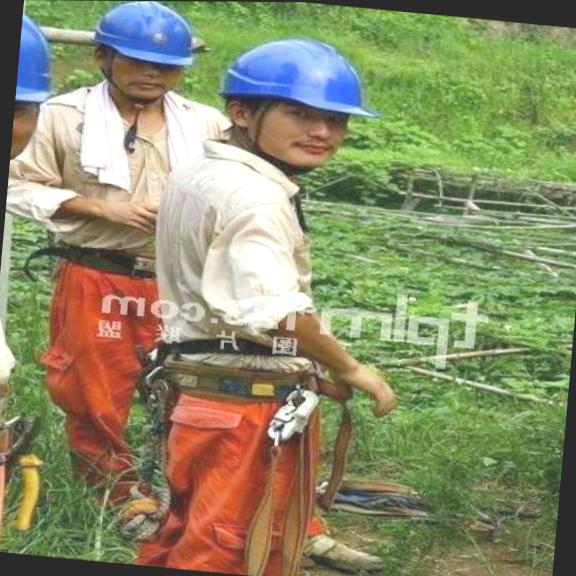no_safety_vest: (136, 137, 339, 363), (16, 79, 237, 267), (0, 177, 39, 408)
